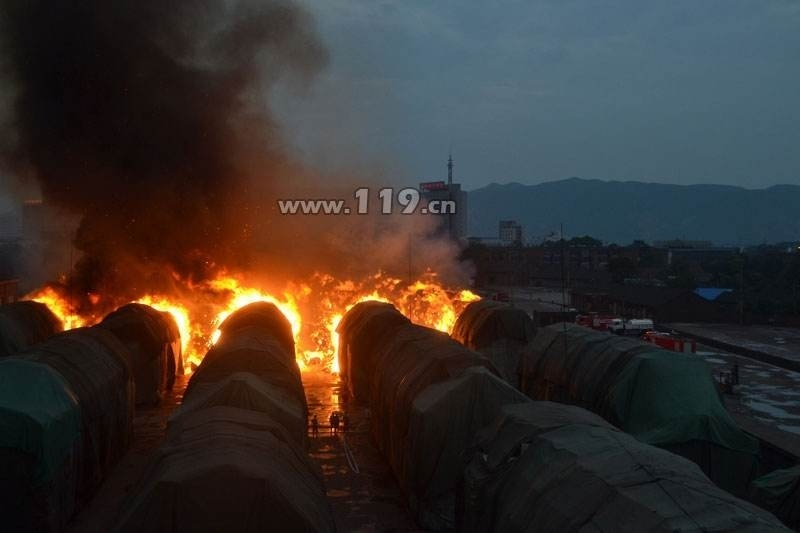fire: (332, 269, 481, 340), (205, 274, 306, 342), (136, 290, 195, 355), (25, 282, 89, 332)
